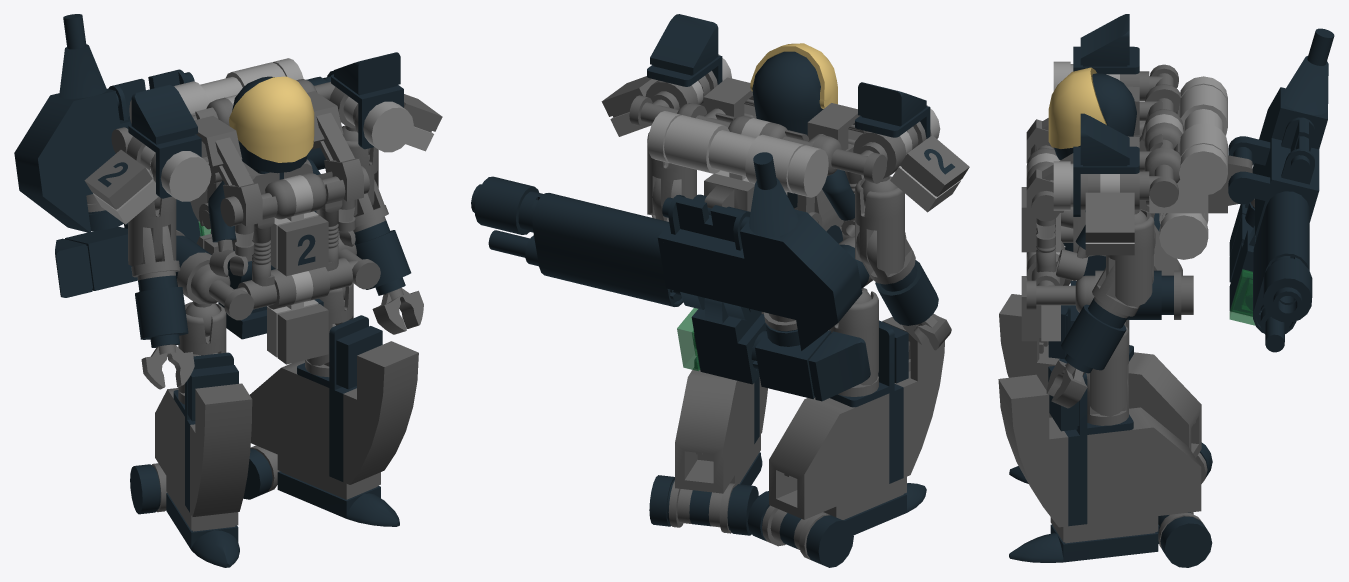
File: pa-02-power-armor.dae
3 views of the same model, side by side, from view 1: azimuth 30°, elevation 25°; view 2: azimuth 150°, elevation 25°; view 3: azimuth 270°, elevation 25° (orthographic). The views are drawn at different scales.
Bounding box in the file's own units: 179 × 137 × 204.
